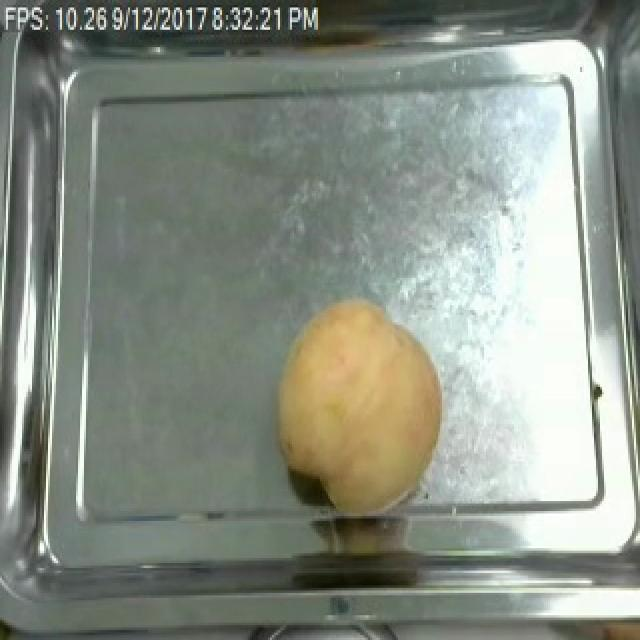Fruit: (268, 291, 452, 518)
